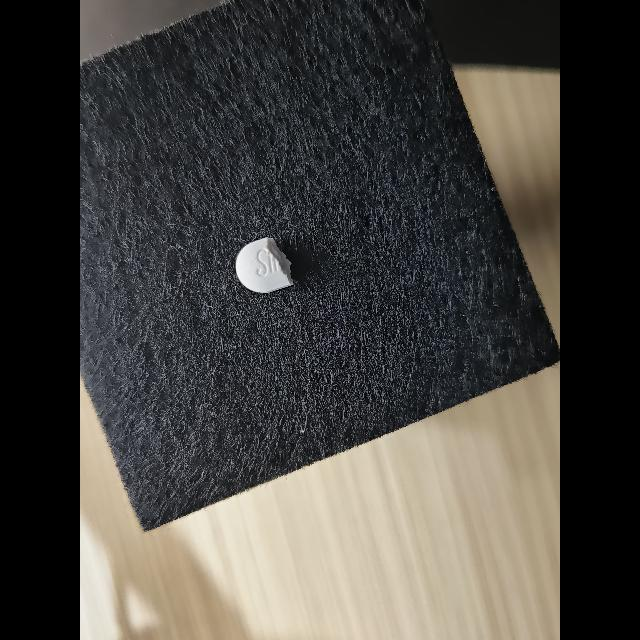Chipped Pill: (236, 237, 294, 293)
